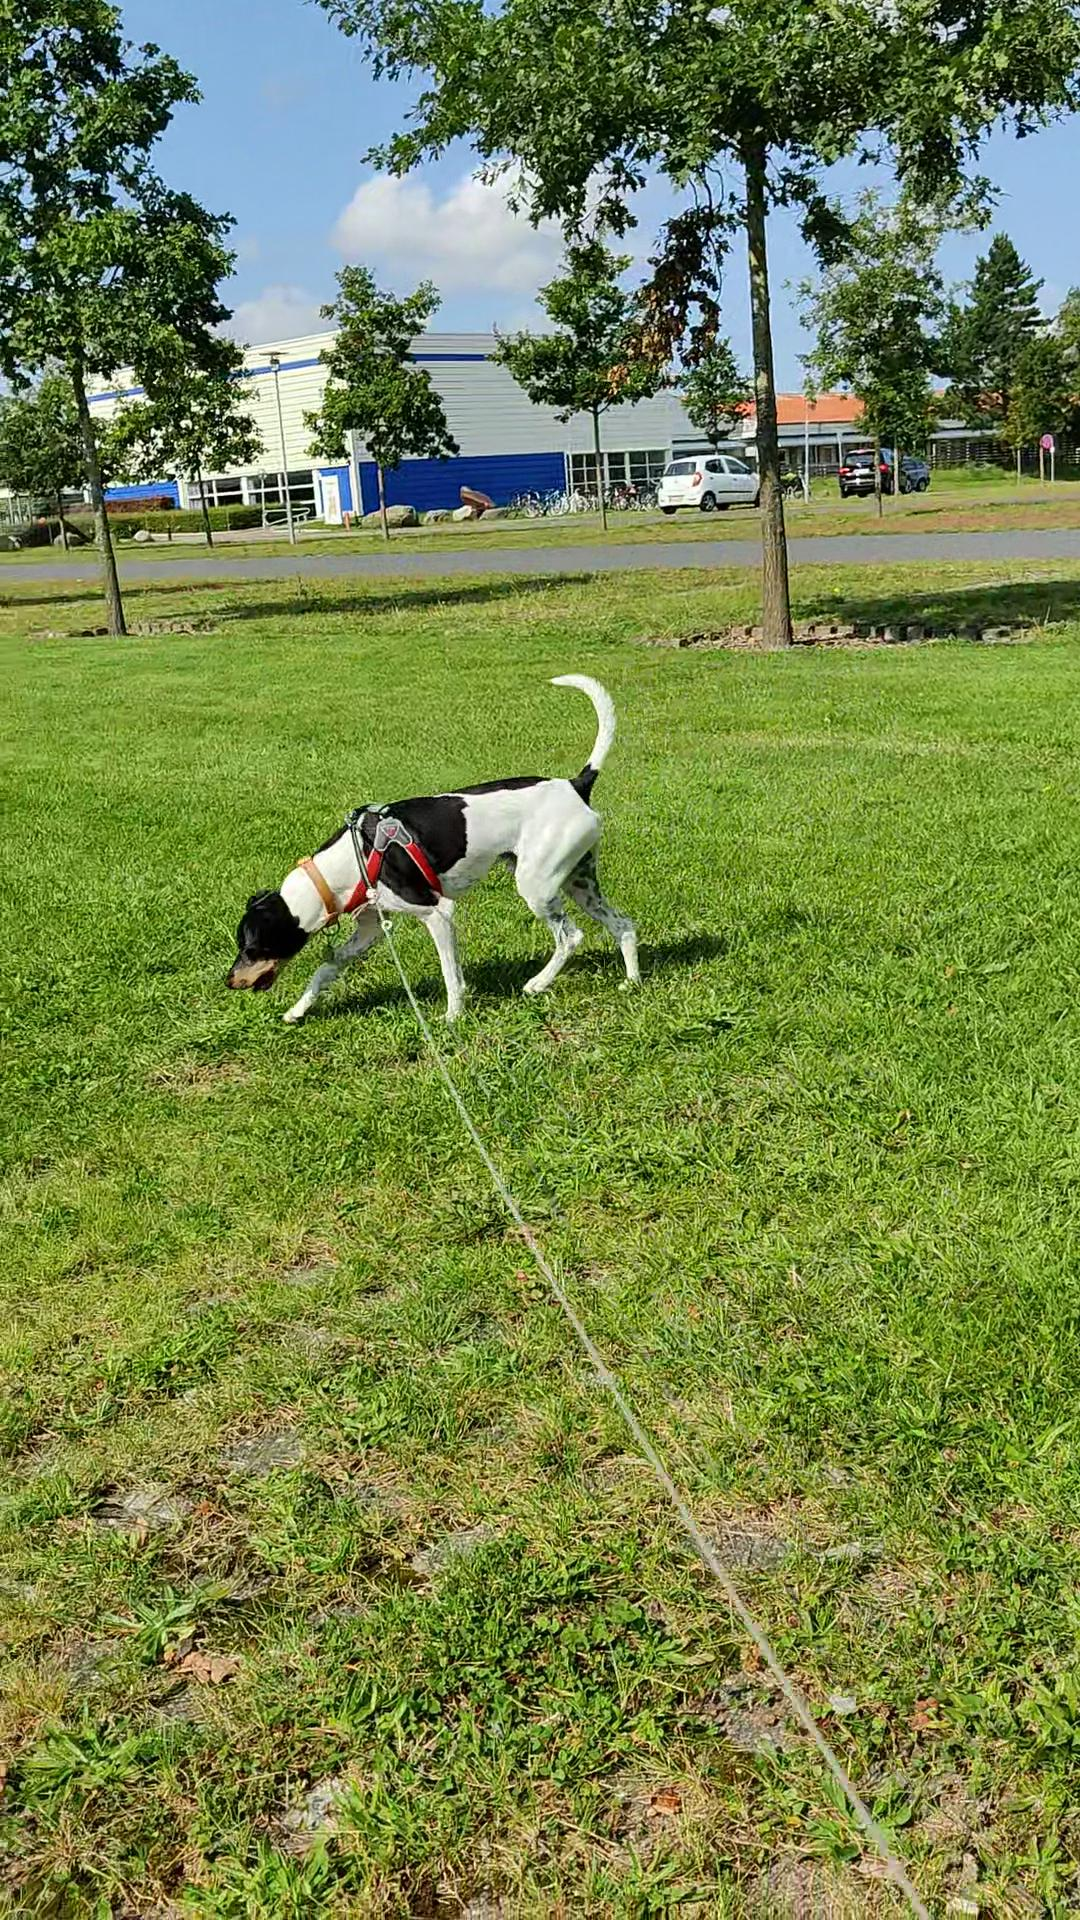Dog: (202, 651, 647, 1034)
